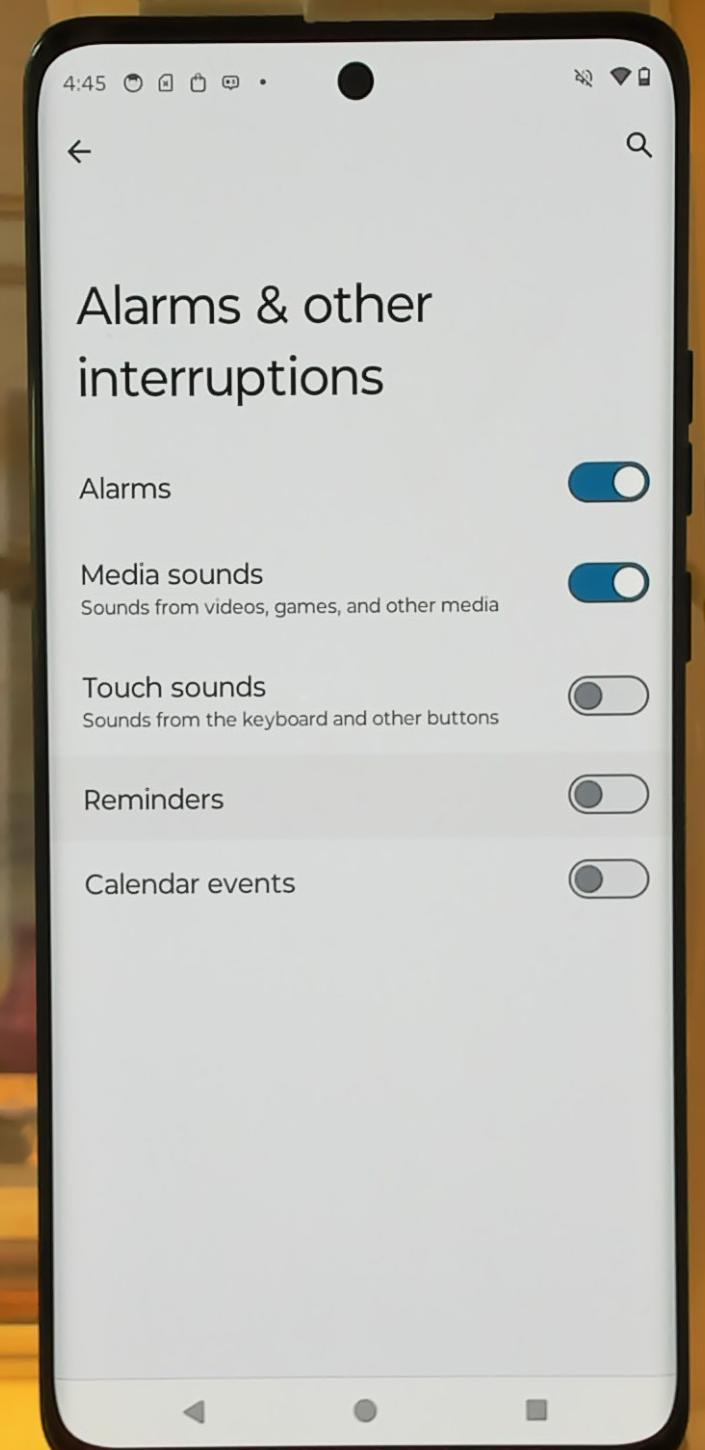Checkbox: (63, 840, 663, 923), (75, 655, 663, 737), (65, 548, 654, 619), (65, 450, 654, 521), (70, 763, 643, 821)
